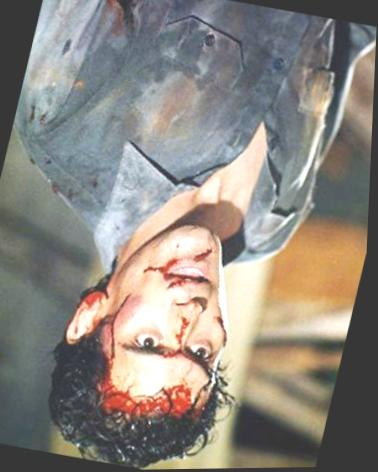Fire: (70, 224, 231, 415)
